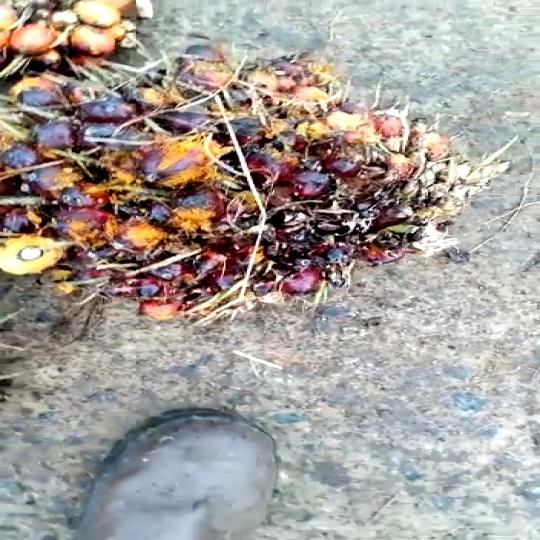masak: (0, 0, 468, 308)
